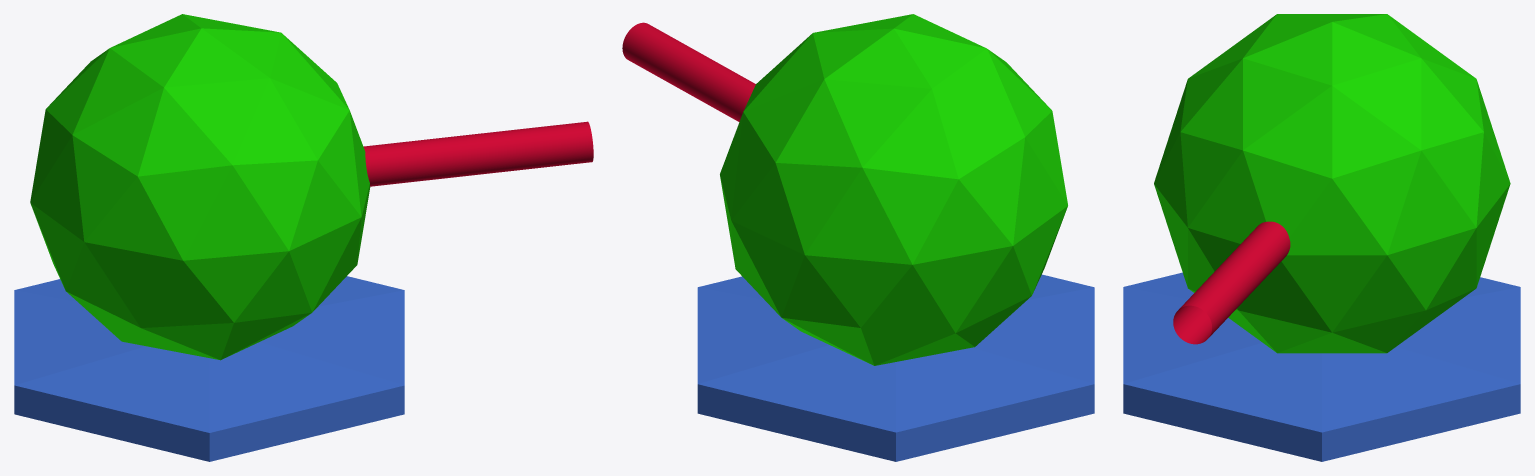
Rendered from turret.fbx.
The picture shows the model from 3 angles, left to right: view 1: azimuth 30°, elevation 25°; view 2: azimuth 150°, elevation 25°; view 3: azimuth 270°, elevation 25°; orthographic projection.
Parts seen in each view (by area): view 1: Icosphere, Sphere, Circle; view 2: Icosphere, Sphere, Circle; view 3: Icosphere, Sphere, Circle.
Boxes of the visible parts, x1=… form: Icosphere: x1=30, y1=14, x2=370, y2=360; Sphere: x1=14, y1=276, x2=404, y2=461; Circle: x1=363, y1=121, x2=593, y2=186; Icosphere: x1=720, y1=14, x2=1067, y2=365; Sphere: x1=697, y1=274, x2=1094, y2=461; Circle: x1=622, y1=22, x2=755, y2=121; Icosphere: x1=1154, y1=14, x2=1510, y2=353; Sphere: x1=1123, y1=272, x2=1520, y2=461; Circle: x1=1173, y1=221, x2=1290, y2=344.
Size of the model in its own units: 342 by 219 by 223.
